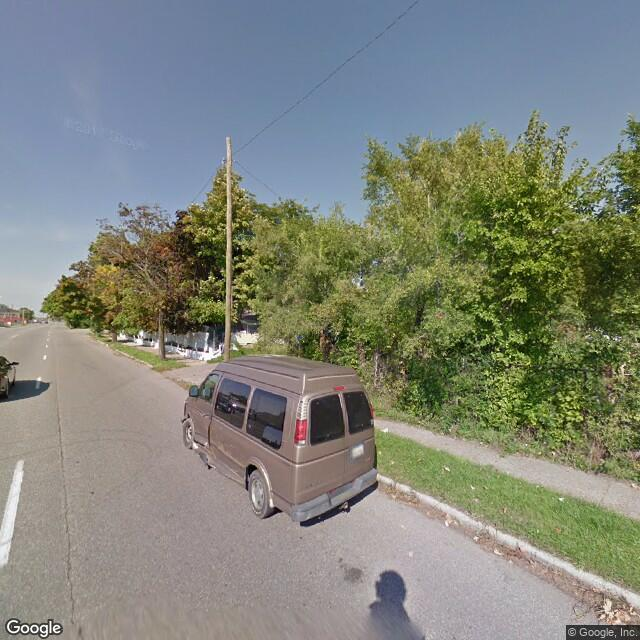litter: (382, 425, 391, 433), (557, 497, 567, 503)
